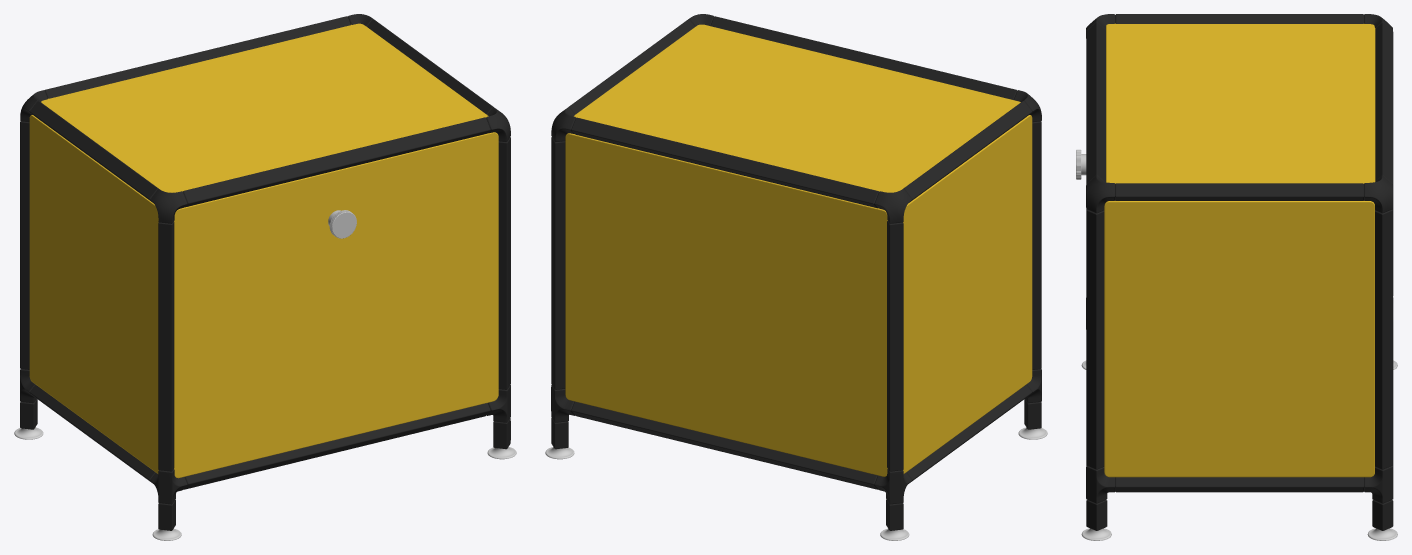
3 views of the same model, side by side, from view 1: azimuth 30°, elevation 25°; view 2: azimuth 150°, elevation 25°; view 3: azimuth 270°, elevation 25° (orthographic). The views are drawn at different scales.
Parts seen in each view (by area): view 1: 479x329x374; view 2: 479x329x374; view 3: 479x329x374.
Boxes of the visible parts, x1,y1,x2,y2 form: 479x329x374: [14, 14, 516, 540]; 479x329x374: [545, 14, 1047, 540]; 479x329x374: [1076, 14, 1397, 540].
Size of the model in its own units: 0.5689 by 0.5133 by 0.4257.
